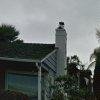Chimney: (47, 14, 83, 75)
